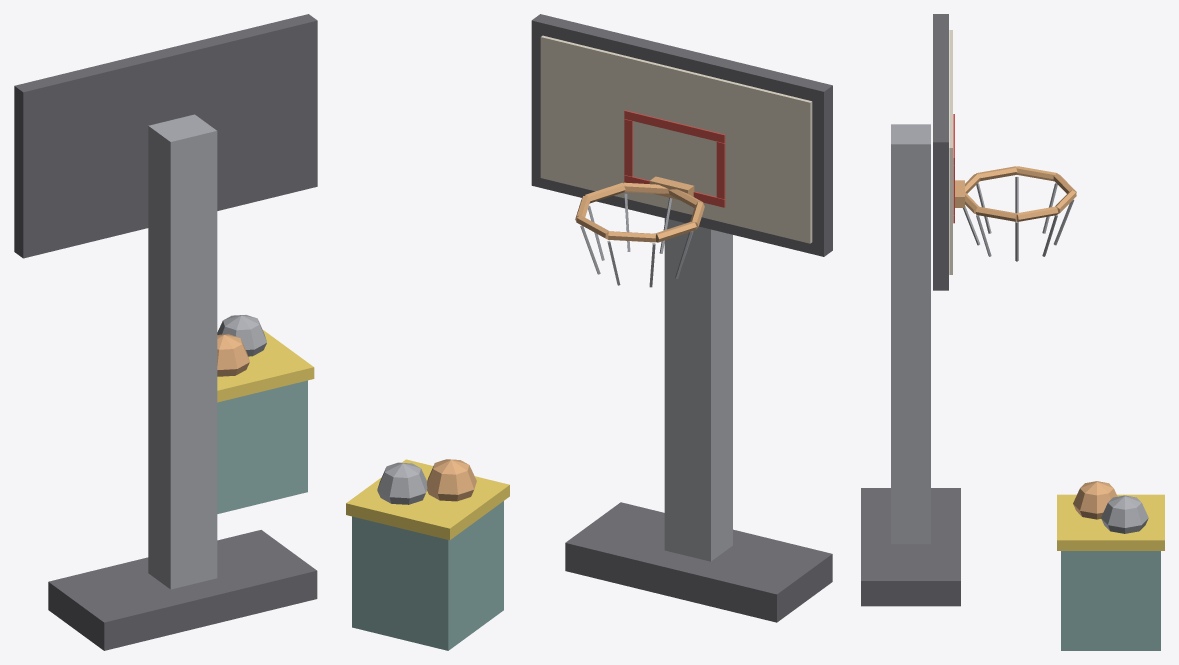
The model's file is garage_hoops.glb.
3 renders of one model, left to right at view 1: azimuth 30°, elevation 25°; view 2: azimuth 150°, elevation 25°; view 3: azimuth 270°, elevation 25°, orthographic. The views are drawn at different scales.
Visible parts, largest first — view 1: GarageHoops; view 2: GarageHoops; view 3: GarageHoops.
Boxes of the visible parts, box(x1,y1,x2,y2) form: GarageHoops: box(14, 14, 317, 650); GarageHoops: box(346, 14, 832, 650); GarageHoops: box(861, 14, 1164, 650).
Bounding box in the file's own units: 1.86 × 2.66 × 1.52.
